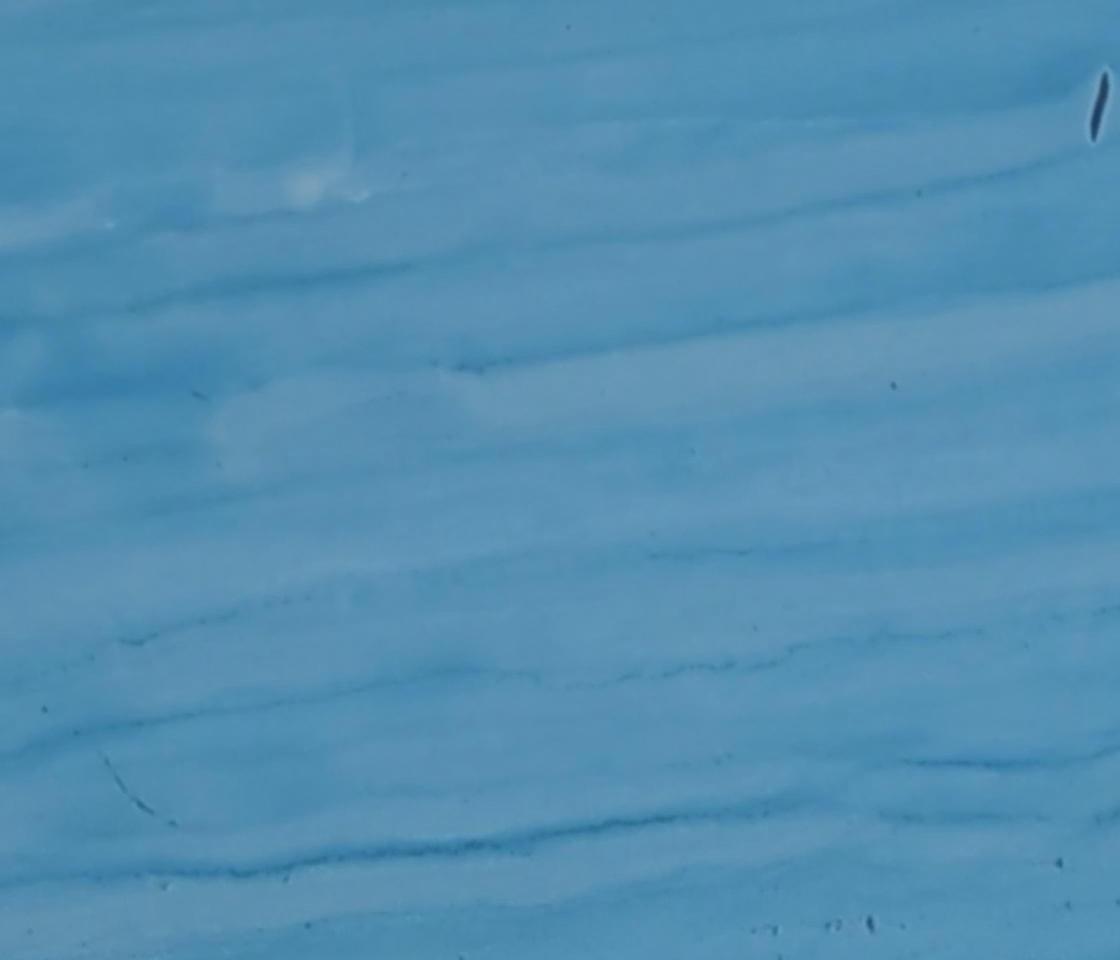scratch: (1085, 65, 1113, 155)
